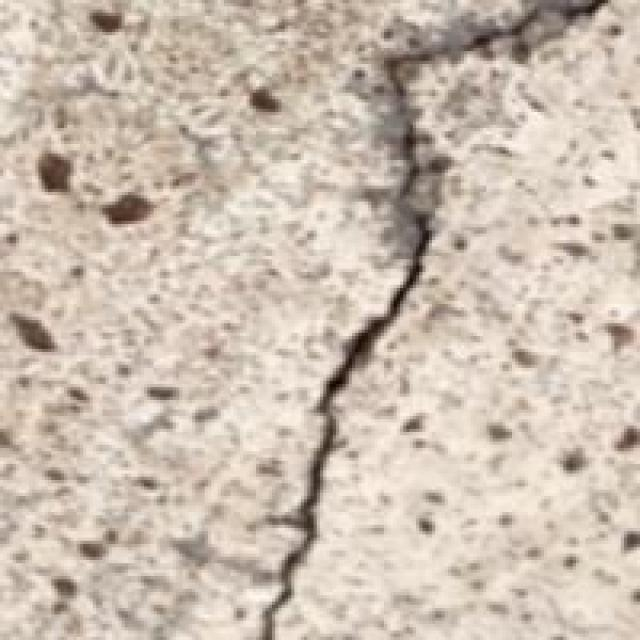Crack: (231, 0, 598, 637)
